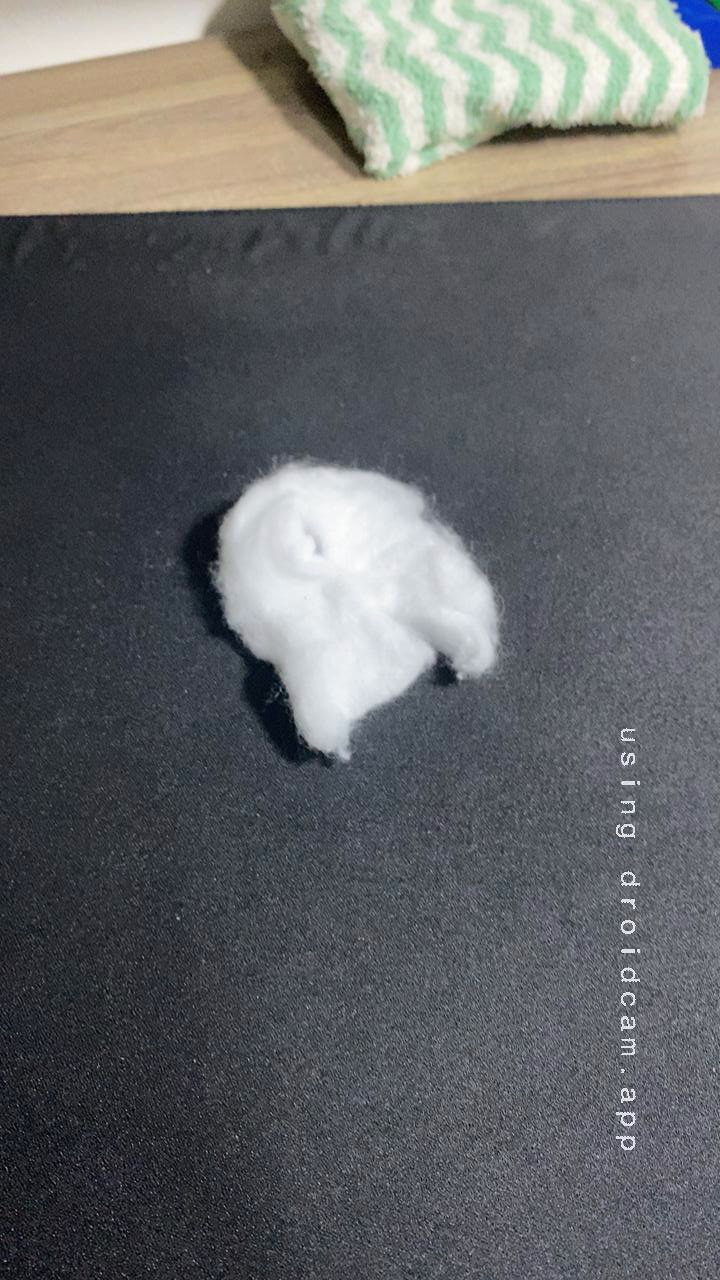cotton: (170, 441, 524, 776)
